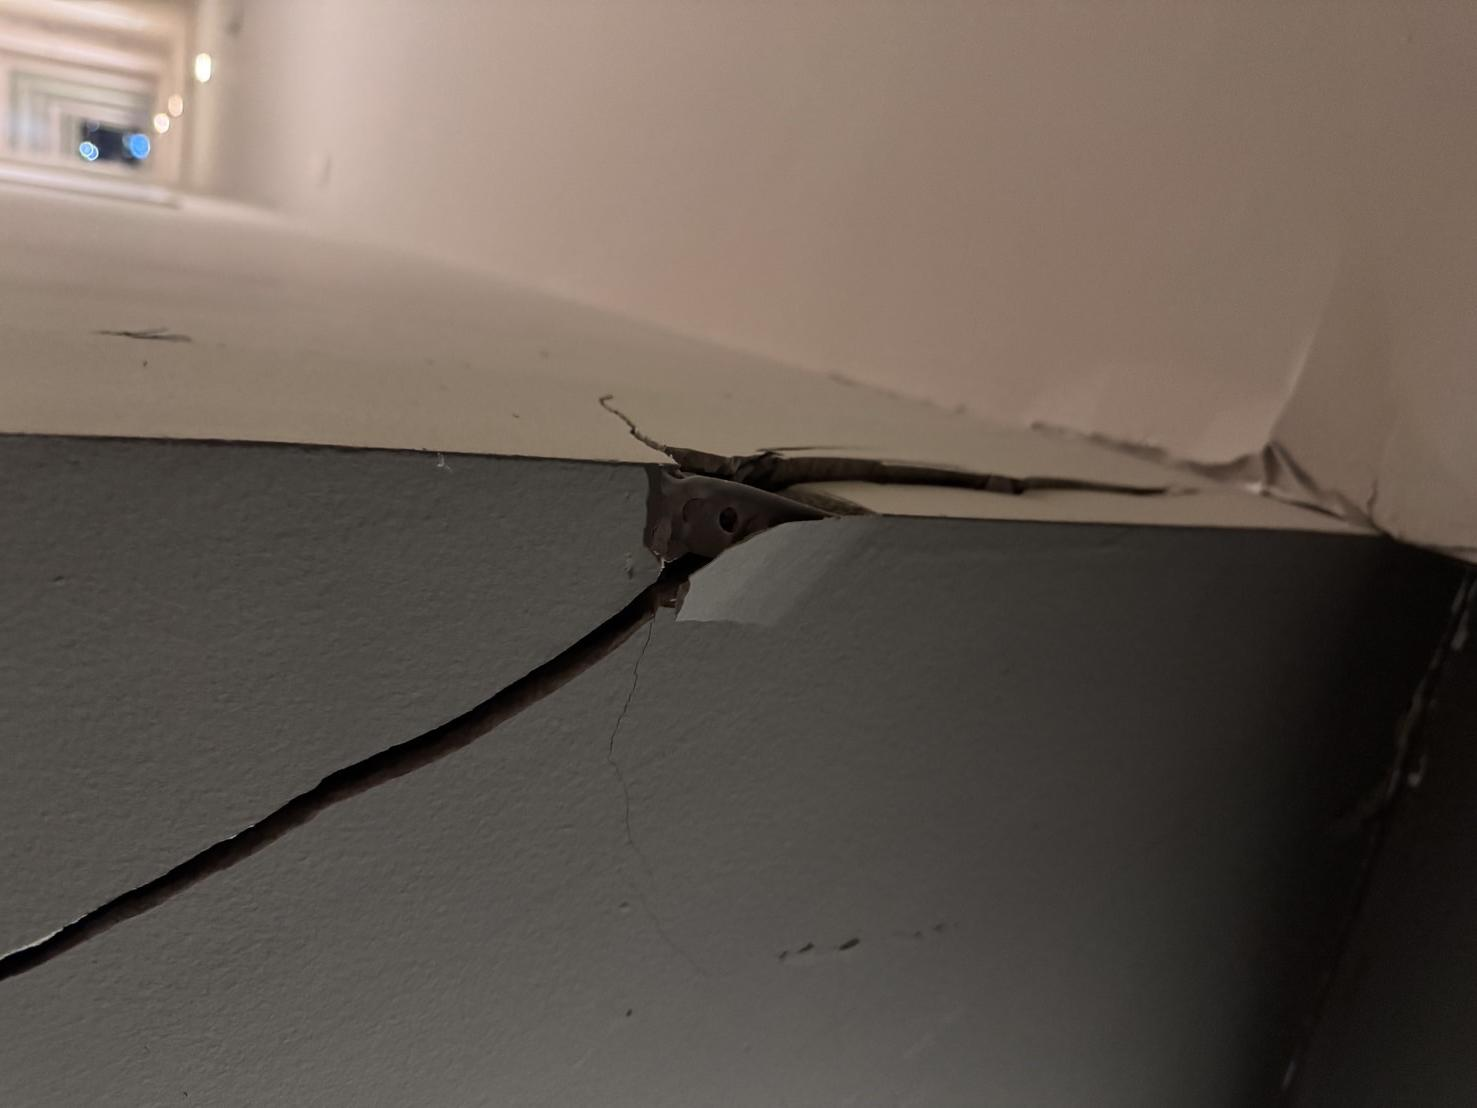Medium: (37, 585, 675, 878)
